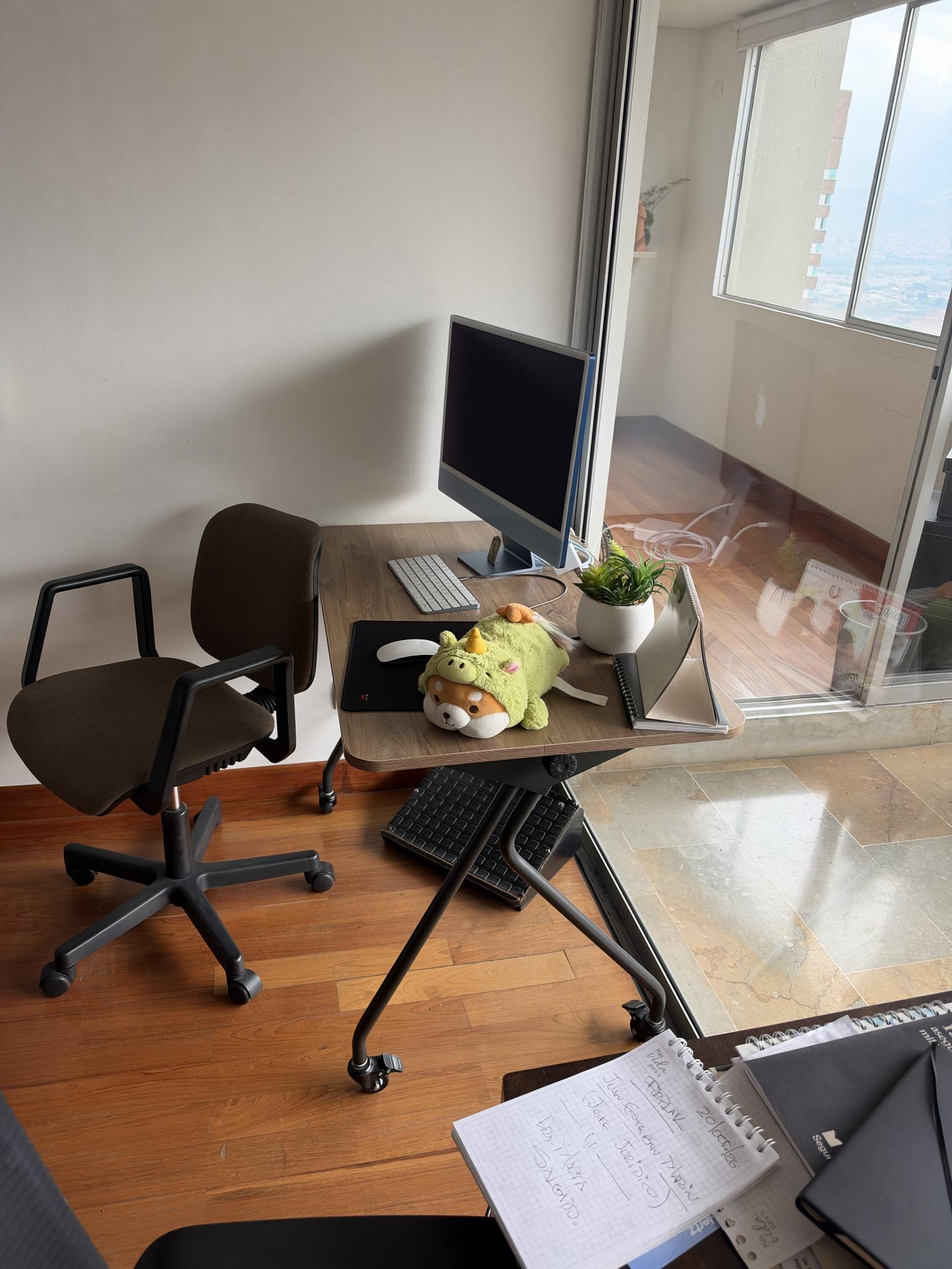peluche_martin: (417, 602, 577, 739)
